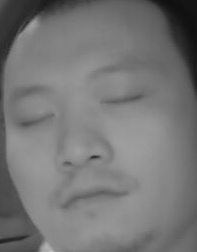blink: (99, 91, 142, 113), (19, 110, 55, 130)
mouth: (59, 175, 130, 213)
